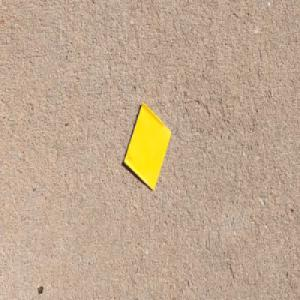PlasticPart: (122, 101, 171, 193)
